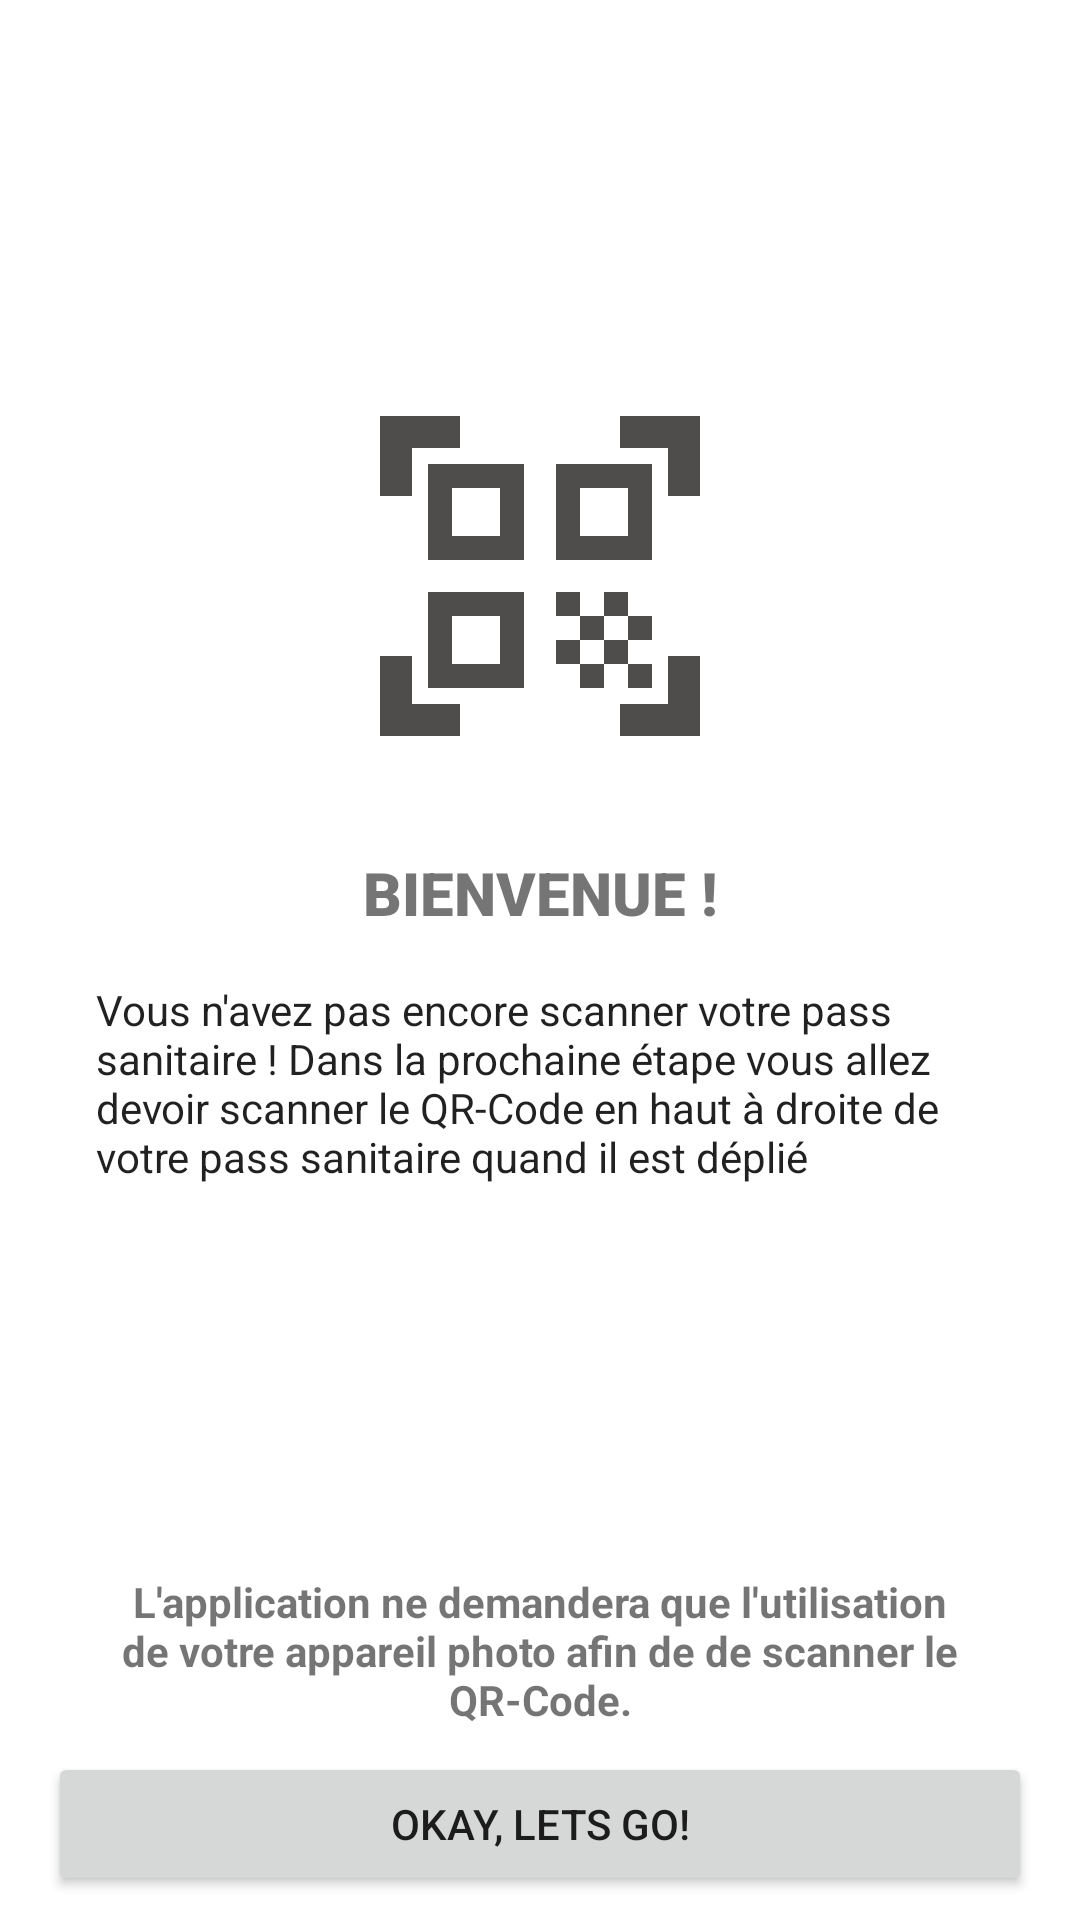

Named icons in this screenshot (1080*1920) and their centers, point (x, y):
qr code scanner: point (540, 576)
